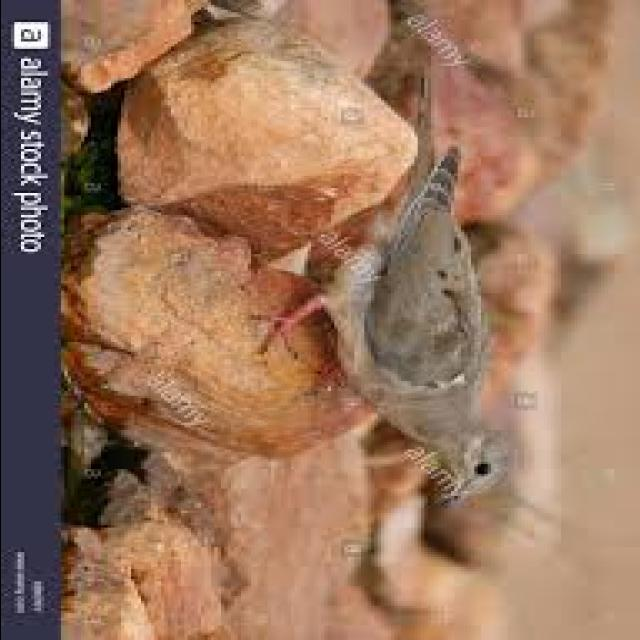pigeon: (286, 118, 538, 494)
